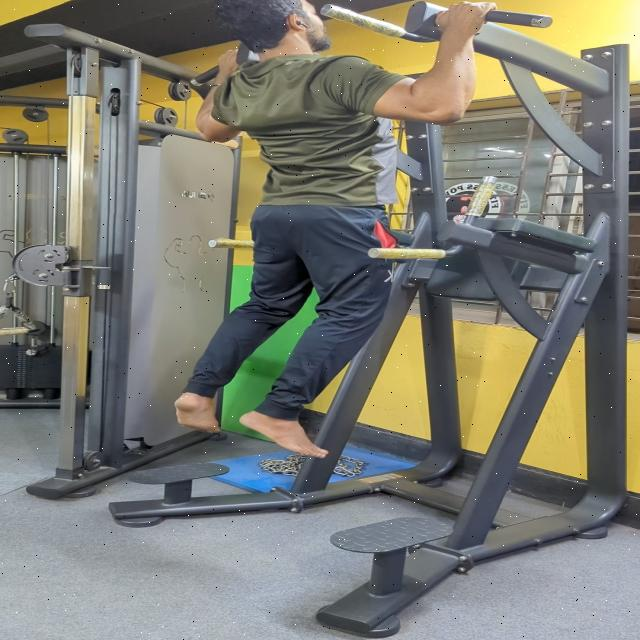Normal_PullUps: (99, 0, 547, 498)
